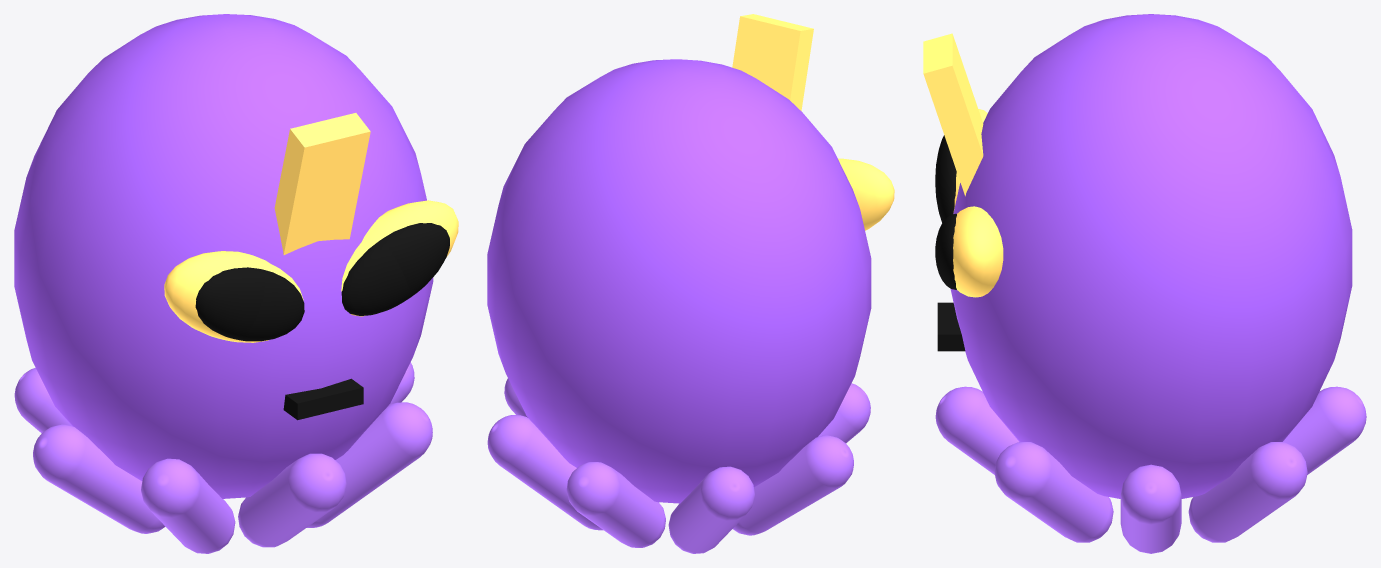
Rendered from mascara.glb.
3 renders of one model, left to right at view 1: azimuth 30°, elevation 25°; view 2: azimuth 150°, elevation 25°; view 3: azimuth 270°, elevation 25°, orthographic. The views are drawn at different scales.
Parts seen in each view (by area): view 1: mascara; view 2: mascara; view 3: mascara.
Part boxes in pixels (box(x1,y1,x2,y2)): mascara: box(14, 14, 458, 553); mascara: box(487, 14, 894, 553); mascara: box(923, 14, 1366, 553).
Size of the model in its own units: 0.2827 by 0.3508 by 0.2907.
